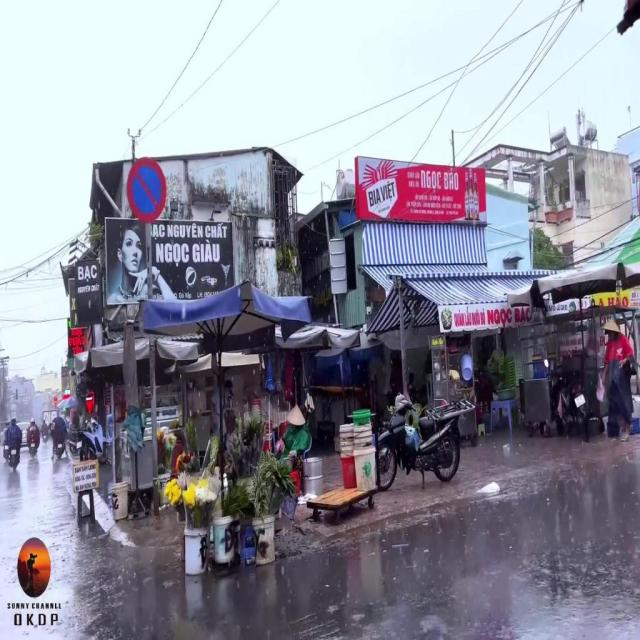cam_do_xe: (127, 158, 166, 224)
